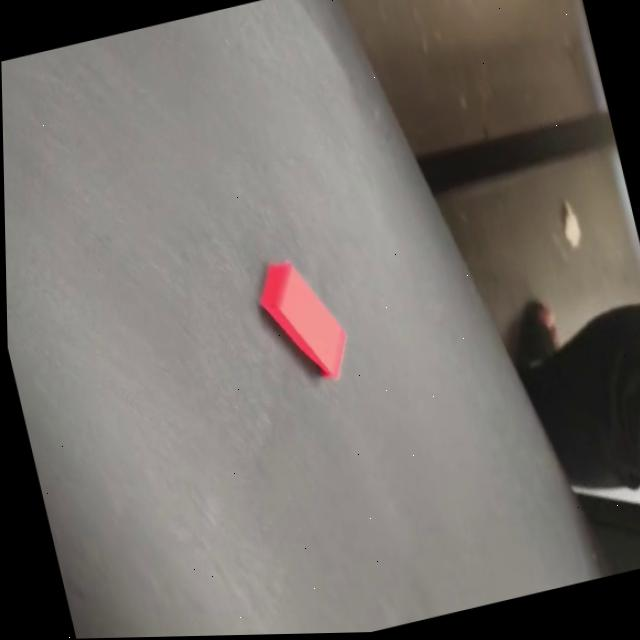red block: (249, 247, 357, 394)
